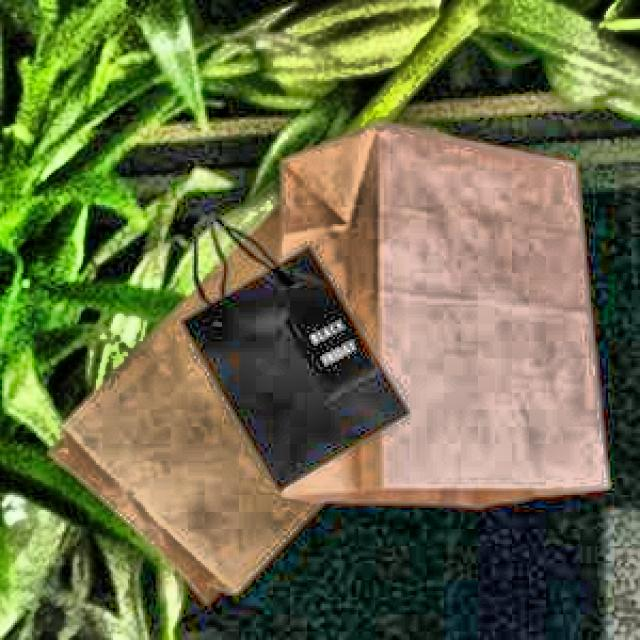Paper-bag: (226, 110, 615, 536), (45, 199, 421, 629), (164, 177, 411, 513)
